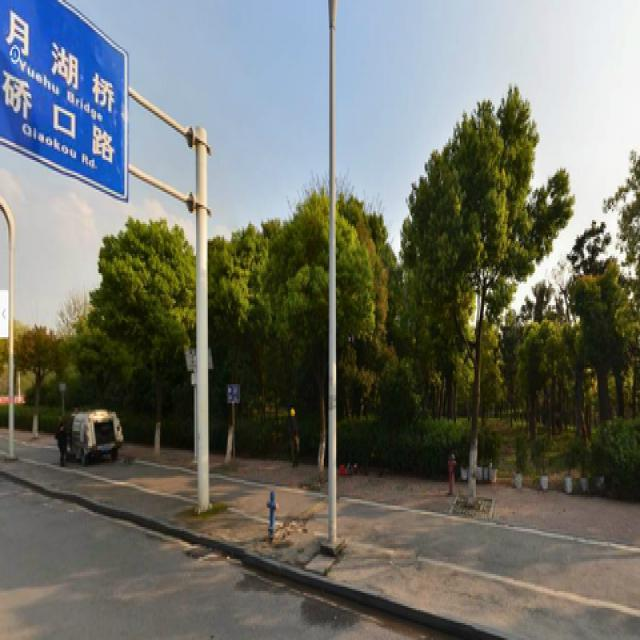cinn: (446, 147, 522, 495), (109, 224, 188, 448)
